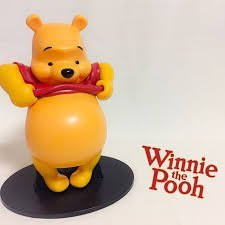Winnie: (15, 9, 115, 102)
